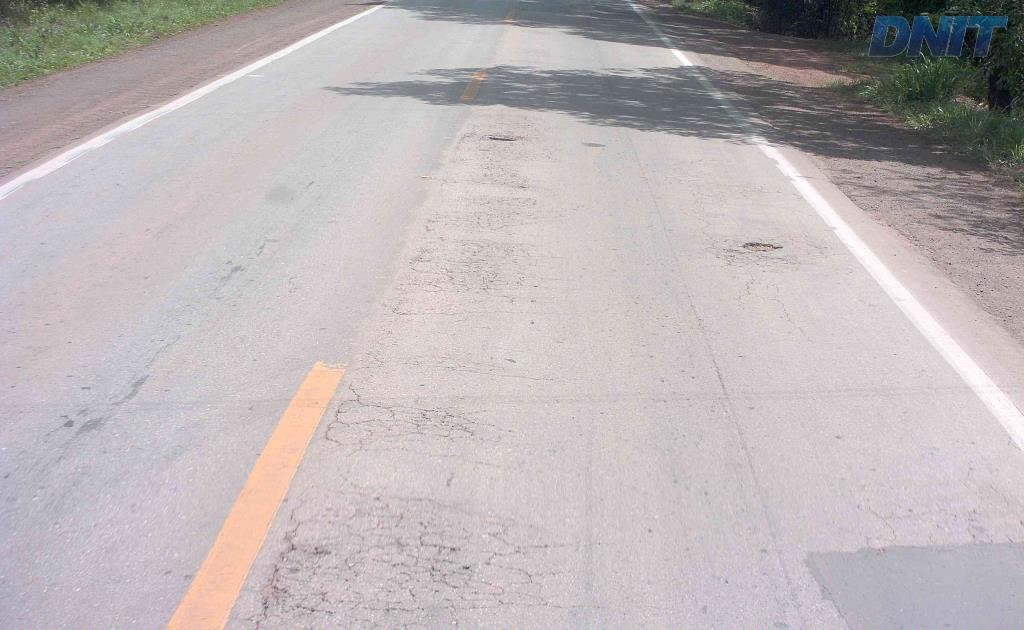crack: (246, 508, 342, 629), (371, 517, 476, 602), (324, 390, 400, 446), (382, 597, 459, 626), (459, 257, 504, 292), (404, 406, 454, 435), (325, 552, 365, 584), (715, 252, 796, 265)
pothole: (739, 237, 783, 253), (482, 133, 519, 141)
